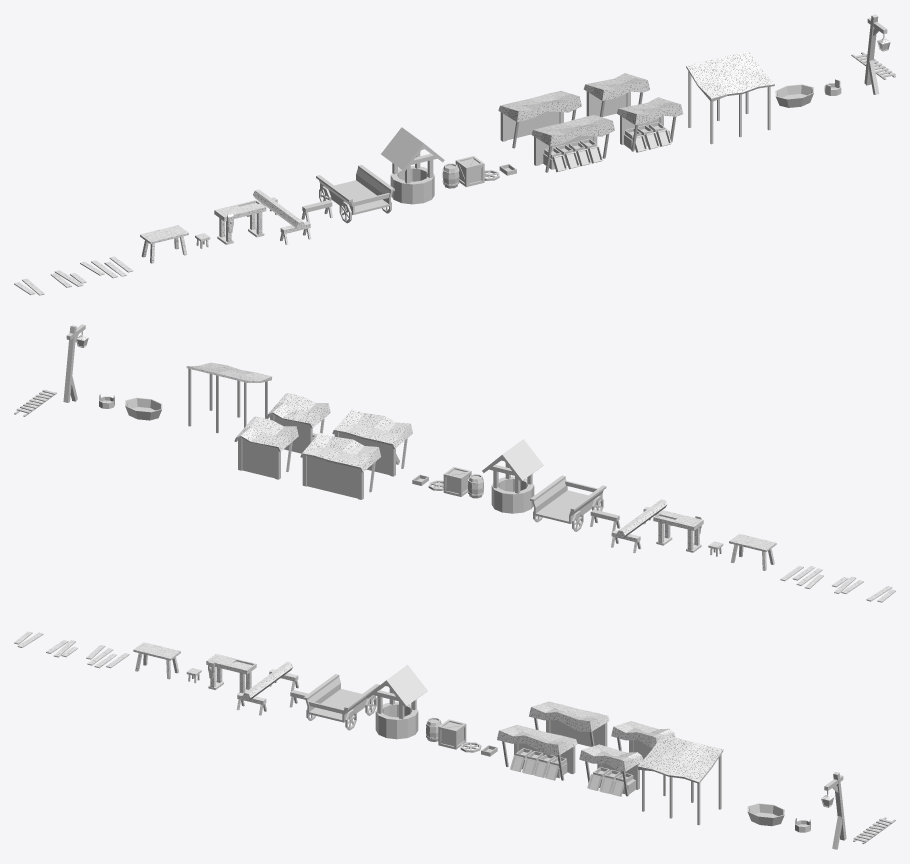
Rendered from mod_enviornment_street_details.fbx.
The picture shows the model from 3 angles, top to bottom: view 1: azimuth 30°, elevation 25°; view 2: azimuth 150°, elevation 25°; view 3: azimuth 330°, elevation 25°; orthographic projection. The views are drawn at different scales.
Parts seen in each view (by area): view 1: overhang, shop_overhang_x3_filled, well, shop_overhang_x3, shop_overhang_x2_filled, cart, shop_overhang_x2, carpenter_table, carpenter_logCut, street_light, table, tub (+1 smaller); view 2: shop_overhang_x3, shop_overhang_x2, well, shop_overhang_x3_filled, cart, shop_overhang_x2_filled, overhang, carpenter_table, street_light, carpenter_logCut, table, tub (+1 smaller); view 3: overhang, shop_overhang_x3_filled, well, shop_overhang_x2_filled, shop_overhang_x3, cart, shop_overhang_x2, carpenter_table, carpenter_logCut, street_light, table, crate (+2 smaller).
Part boxes in pixels (x1,y1,x2,y2): overhang: [686, 50, 774, 144]; shop_overhang_x3_filled: [531, 115, 614, 172]; well: [381, 127, 444, 204]; shop_overhang_x3: [498, 90, 581, 148]; shop_overhang_x2_filled: [616, 97, 683, 152]; cart: [316, 165, 394, 223]; shop_overhang_x2: [583, 73, 650, 117]; carpenter_table: [214, 200, 266, 244]; carpenter_logCut: [247, 189, 311, 245]; street_light: [864, 14, 890, 94]; table: [140, 225, 188, 263]; tub: [775, 84, 813, 107]; shop_overhang_x3: [300, 432, 380, 499]; shop_overhang_x2: [234, 416, 298, 479]; well: [482, 439, 543, 513]; shop_overhang_x3_filled: [332, 409, 412, 476]; cart: [530, 475, 606, 531]; shop_overhang_x2_filled: [266, 393, 330, 453]; overhang: [186, 362, 272, 433]; carpenter_table: [653, 510, 703, 552]; street_light: [63, 324, 88, 402]; carpenter_logCut: [611, 499, 671, 553]; table: [729, 533, 776, 570]; tub: [125, 397, 162, 420]; overhang: [637, 734, 723, 825]; shop_overhang_x3_filled: [497, 725, 577, 780]; well: [366, 664, 427, 739]; shop_overhang_x2_filled: [579, 744, 643, 796]; shop_overhang_x3: [529, 701, 609, 746]; cart: [303, 674, 379, 730]; shop_overhang_x2: [611, 721, 675, 759]; carpenter_table: [206, 654, 256, 694]; carpenter_logCut: [236, 661, 298, 715]; street_light: [821, 771, 846, 849]; table: [133, 642, 180, 679]; crate: [438, 719, 466, 749].
Size of the model in its own units: 45.8 by 3.92 by 5.44.
